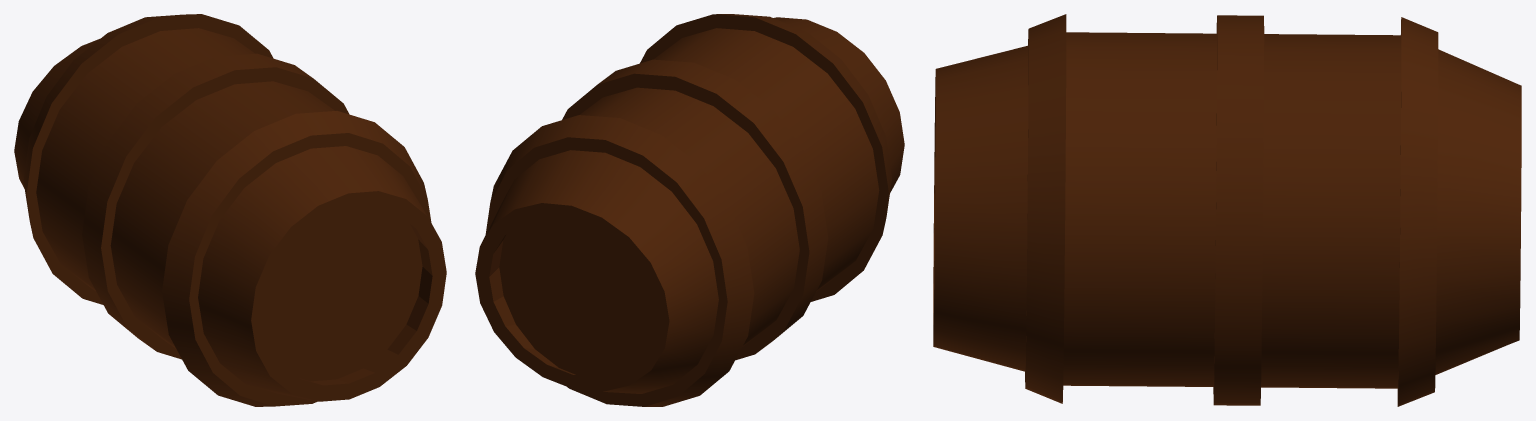
The model's file is Barrel_VR.fbx.
3 renders of one model, left to right at view 1: azimuth 30°, elevation 25°; view 2: azimuth 150°, elevation 25°; view 3: azimuth 270°, elevation 25°, orthographic. The views are drawn at different scales.
Parts seen in each view (by area): view 1: Barrel_VR:pCylinder3; view 2: Barrel_VR:pCylinder3; view 3: Barrel_VR:pCylinder3.
Boxes of the visible parts, bbox=[...] form: Barrel_VR:pCylinder3: bbox=[14, 14, 446, 406]; Barrel_VR:pCylinder3: bbox=[475, 14, 904, 406]; Barrel_VR:pCylinder3: bbox=[933, 14, 1521, 406].
Size of the model in its own units: 9.15 by 9.47 by 14.02.
